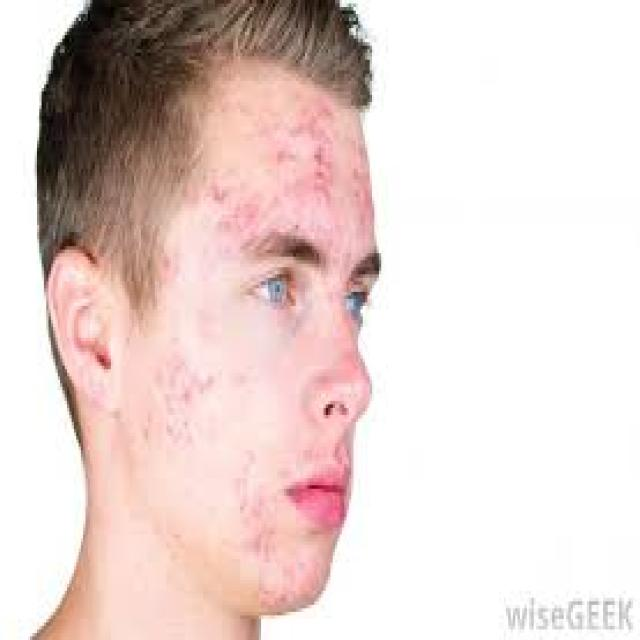Acne: (160, 345, 222, 466), (266, 104, 332, 216), (230, 467, 278, 588), (201, 169, 251, 246)
